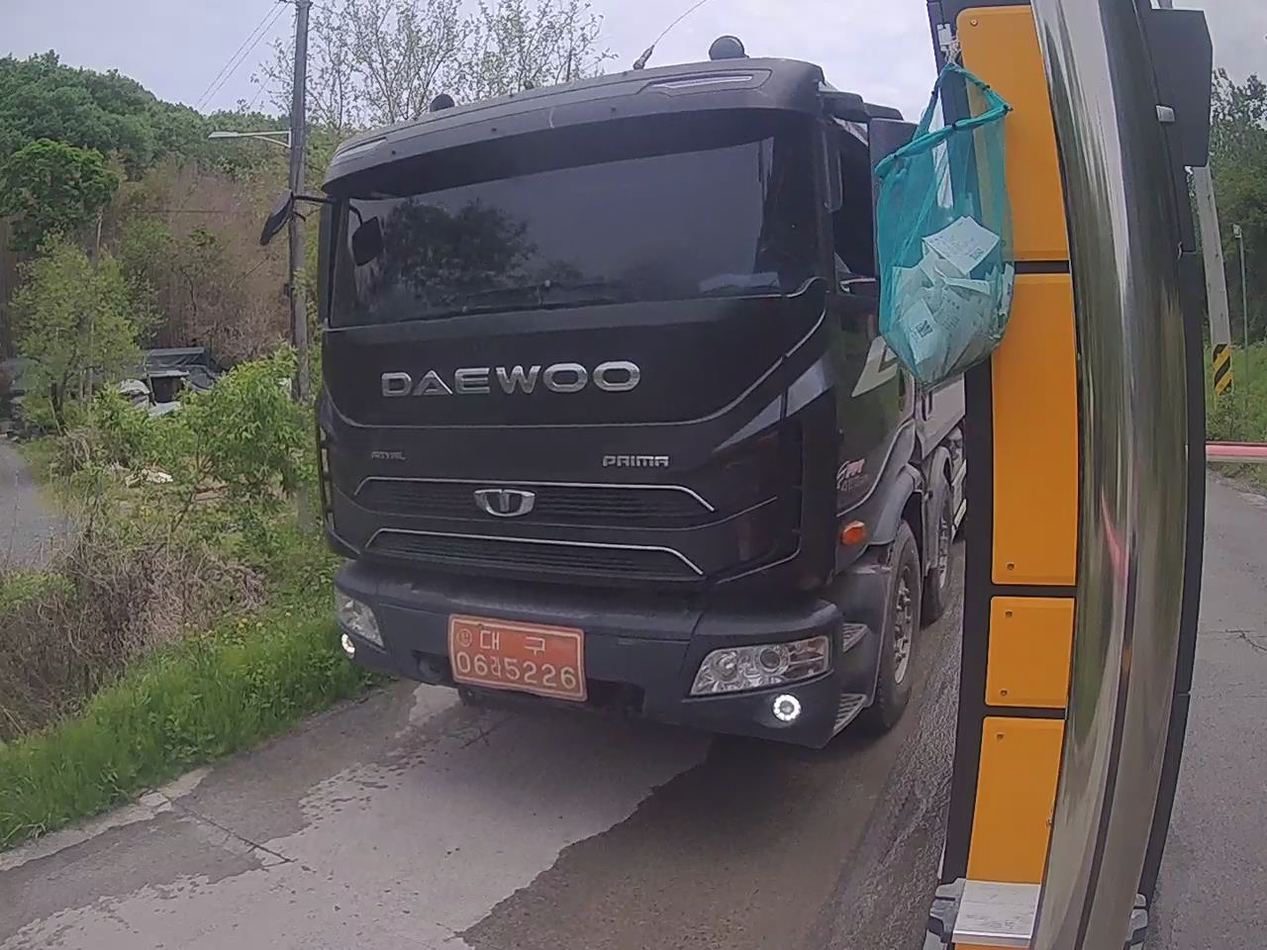license_plate: (450, 616, 586, 701)
truck: (307, 41, 965, 748)
